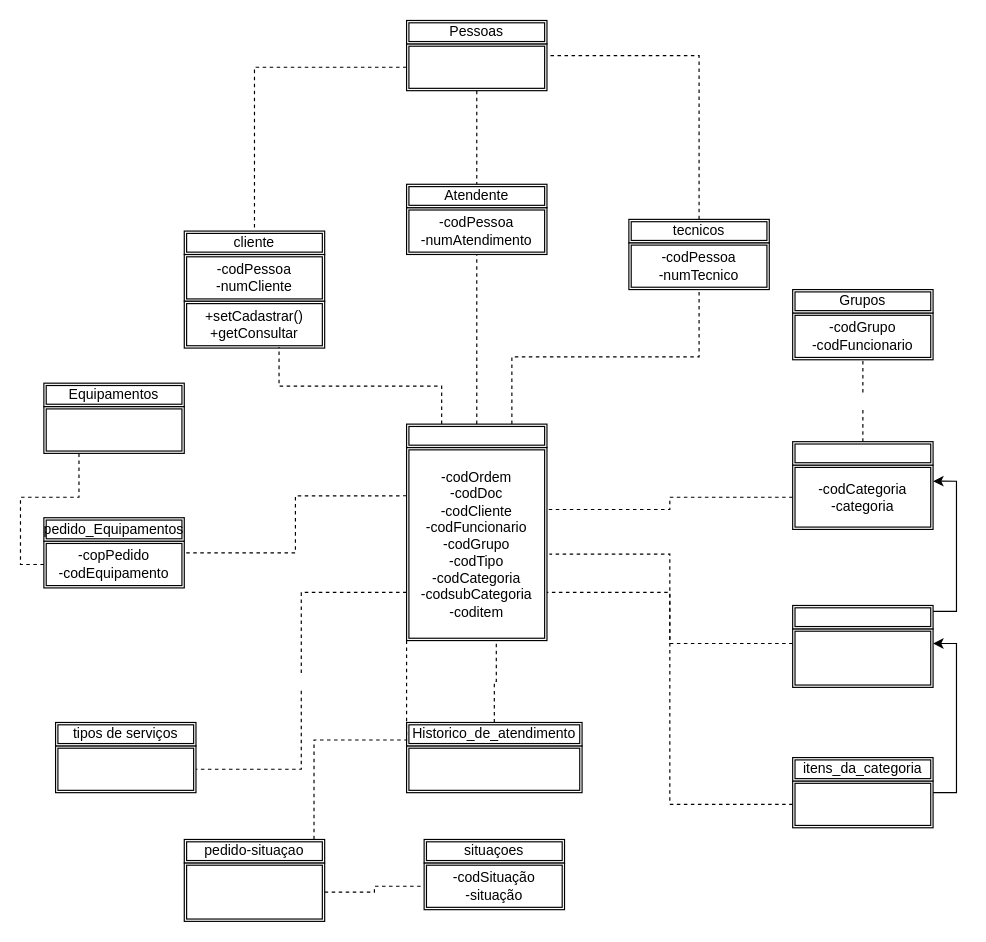
The diagram is 986 pixels wide and 942 high, and some of its shapes have lost their labels. Each missing label, with the centre of its shape:
"-codEquipamento" belongs at (x=113, y=429).
"-codHisdtoricop -codDoc" belongs at (x=493, y=769).
"-coditem -item" belongs at (x=862, y=804).
"-codPessoa -Pessoal" belongs at (x=476, y=67).
"-codSituação -codOrdem -tempoNaSituaçao" belongs at (x=254, y=891).
"-codTipo" belongs at (x=125, y=769).
"categorias" belongs at (x=862, y=453).
"codCategoria subCategoria" belongs at (x=862, y=657).
"Pedidos" belongs at (x=476, y=435).
"Sub_Categoria" belongs at (x=862, y=616).
